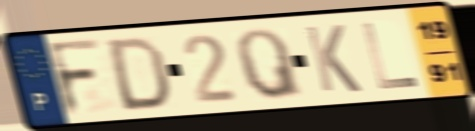2: (182, 32, 238, 105)
D: (106, 33, 173, 113)
F: (45, 36, 106, 119)
K: (301, 22, 365, 95)
L: (358, 20, 422, 92)
Q: (233, 26, 307, 102)
